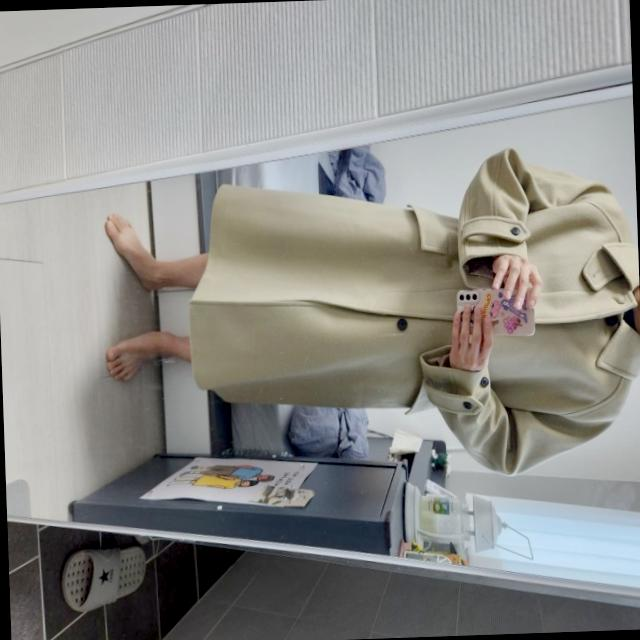coat: (182, 141, 640, 487)
